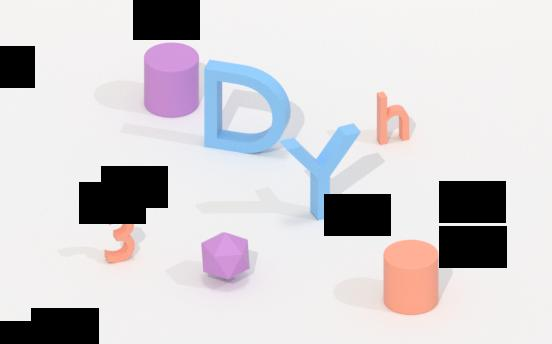3: (102, 207, 138, 270)
Y-hoa: (277, 120, 363, 229)
d: (203, 55, 293, 164)
dagiac: (198, 231, 253, 282)
h: (374, 88, 416, 149)
tru: (379, 237, 443, 318), (140, 40, 201, 121)
